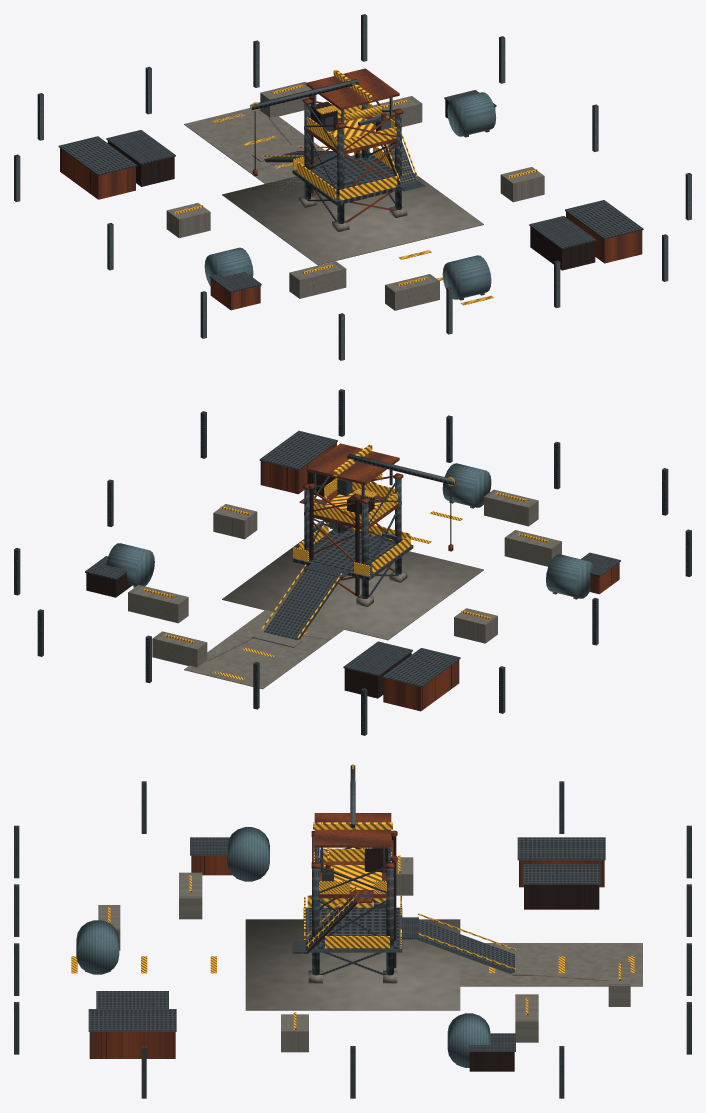
The model's file is rustworks-central-tower.glb.
The picture shows the model from 3 angles, top to bottom: view 1: azimuth 30°, elevation 25°; view 2: azimuth 150°, elevation 25°; view 3: azimuth 270°, elevation 25°; orthographic projection. The views are drawn at different scales.
Parts seen in each view (by area): view 1: RW_hardstand, RW_service_lane, RW_crate_0, RW_canopy_roof, RW_tank_1, RW_tank_2, RW_crate_lid_0, RW_crate_lid_2, RW_scrap_0, RW_scrap_4, RW_lower_deck_trim, RW_crate_3 (+17 smaller); view 2: RW_hardstand, RW_service_lane, RW_lower_ramp_shell, RW_crate_0, RW_canopy_roof, RW_lower_deck_trim, RW_tank_0, RW_crate_lid_0, RW_crate_lid_2, RW_scrap_1, RW_tank_2, RW_scrap_5 (+13 smaller); view 3: RW_hardstand, RW_service_lane, RW_crate_2, RW_canopy_roof, RW_crate_lid_0, RW_crate_lid_2, RW_tank_2, RW_lower_ramp_shell, RW_tank_0, RW_crate_1, RW_crate_lid_1, RW_tank_1 (+20 smaller).
Boxes of the visible parts, x1=… form: RW_hardstand: x1=222, y1=173, x2=483, y2=265; RW_service_lane: x1=184, y1=108, x2=325, y2=188; RW_crate_0: x1=60, y1=148, x2=135, y2=199; RW_canopy_roof: x1=306, y1=68, x2=399, y2=109; RW_tank_1: x1=447, y1=92, x2=495, y2=136; RW_tank_2: x1=442, y1=255, x2=491, y2=299; RW_crate_lid_0: x1=58, y1=136, x2=137, y2=175; RW_crate_lid_2: x1=565, y1=200, x2=643, y2=239; RW_scrap_0: x1=289, y1=261, x2=346, y2=298; RW_scrap_4: x1=385, y1=274, x2=439, y2=310; RW_lower_deck_trim: x1=311, y1=155, x2=398, y2=199; RW_crate_3: x1=530, y1=227, x2=595, y2=270; RW_hardstand: x1=222, y1=529, x2=483, y2=640; RW_service_lane: x1=184, y1=610, x2=344, y2=689; RW_lower_ramp_shell: x1=264, y1=569, x2=340, y2=640; RW_crate_0: x1=383, y1=660, x2=459, y2=711; RW_canopy_roof: x1=306, y1=443, x2=399, y2=484; RW_lower_deck_trim: x1=309, y1=530, x2=394, y2=572; RW_tank_0: x1=546, y1=554, x2=594, y2=598; RW_crate_lid_0: x1=382, y1=648, x2=460, y2=687; RW_crate_lid_2: x1=259, y1=430, x2=337, y2=470; RW_scrap_1: x1=128, y1=585, x2=188, y2=623; RW_tank_2: x1=442, y1=463, x2=491, y2=507; RW_scrap_5: x1=152, y1=631, x2=207, y2=667; RW_hardstand: x1=245, y1=919, x2=460, y2=1010; RW_service_lane: x1=460, y1=943, x2=642, y2=986; RW_crate_2: x1=89, y1=1032, x2=175, y2=1058; RW_canopy_roof: x1=314, y1=813, x2=391, y2=847; RW_crate_lid_0: x1=517, y1=837, x2=605, y2=860; RW_crate_lid_2: x1=88, y1=1009, x2=176, y2=1031; RW_tank_2: x1=76, y1=920, x2=119, y2=974; RW_lower_ramp_shell: x1=417, y1=919, x2=514, y2=973; RW_tank_0: x1=227, y1=827, x2=269, y2=881; RW_crate_1: x1=524, y1=884, x2=599, y2=909; RW_crate_lid_1: x1=523, y1=864, x2=600, y2=884; RW_tank_1: x1=447, y1=1013, x2=490, y2=1067.
Size of the model in its own units: 54.45 by 14.12 by 58.45.
6 materials, 6 textured.
